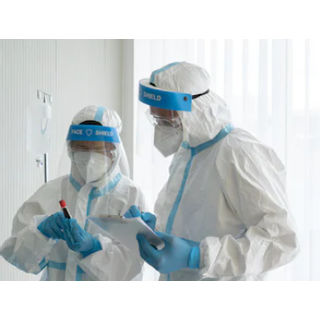Coverall: (140, 60, 298, 280), (1, 106, 146, 279)
Gloves: (133, 227, 200, 275), (67, 219, 100, 257), (37, 211, 67, 243)
with_mask: (72, 141, 112, 185), (152, 109, 184, 158)
